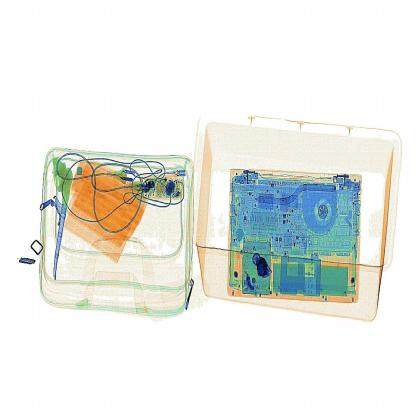scissors: (251, 248, 279, 286)
